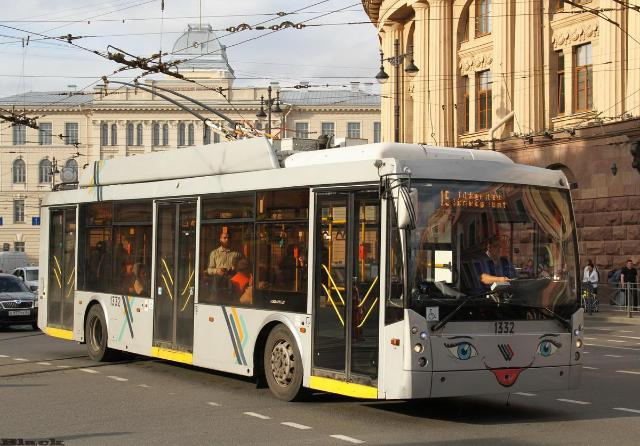bus: (35, 136, 587, 411)
